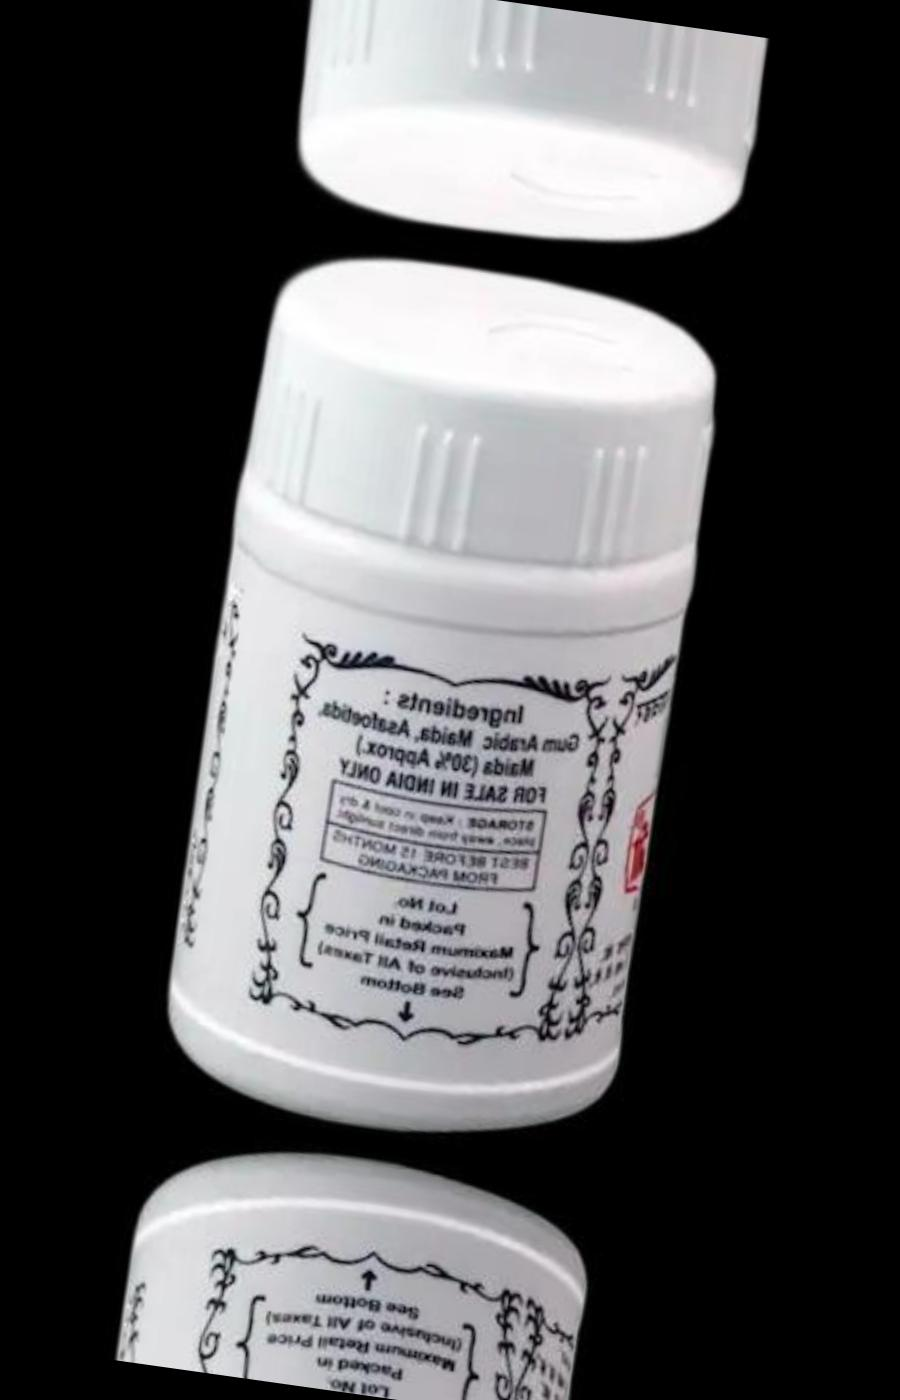LG Compounded Hing Powder 50 g: (150, 240, 726, 1161), (113, 1126, 601, 1400), (276, 0, 763, 265)
